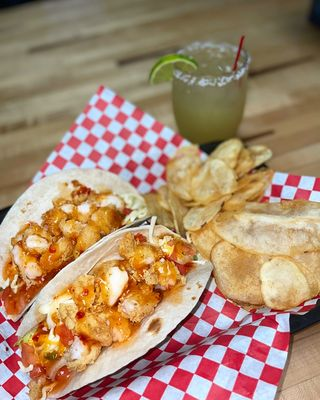pizza: (168, 36, 251, 145)
